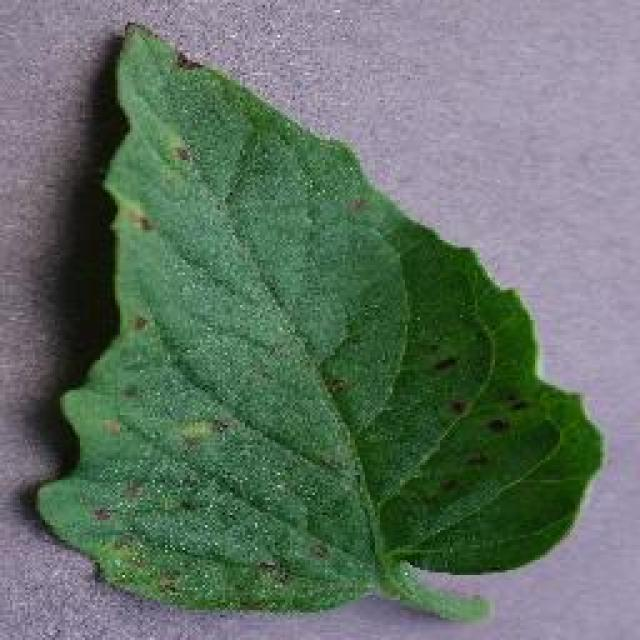Tomato Septoria spot leaf: (36, 20, 604, 617)
